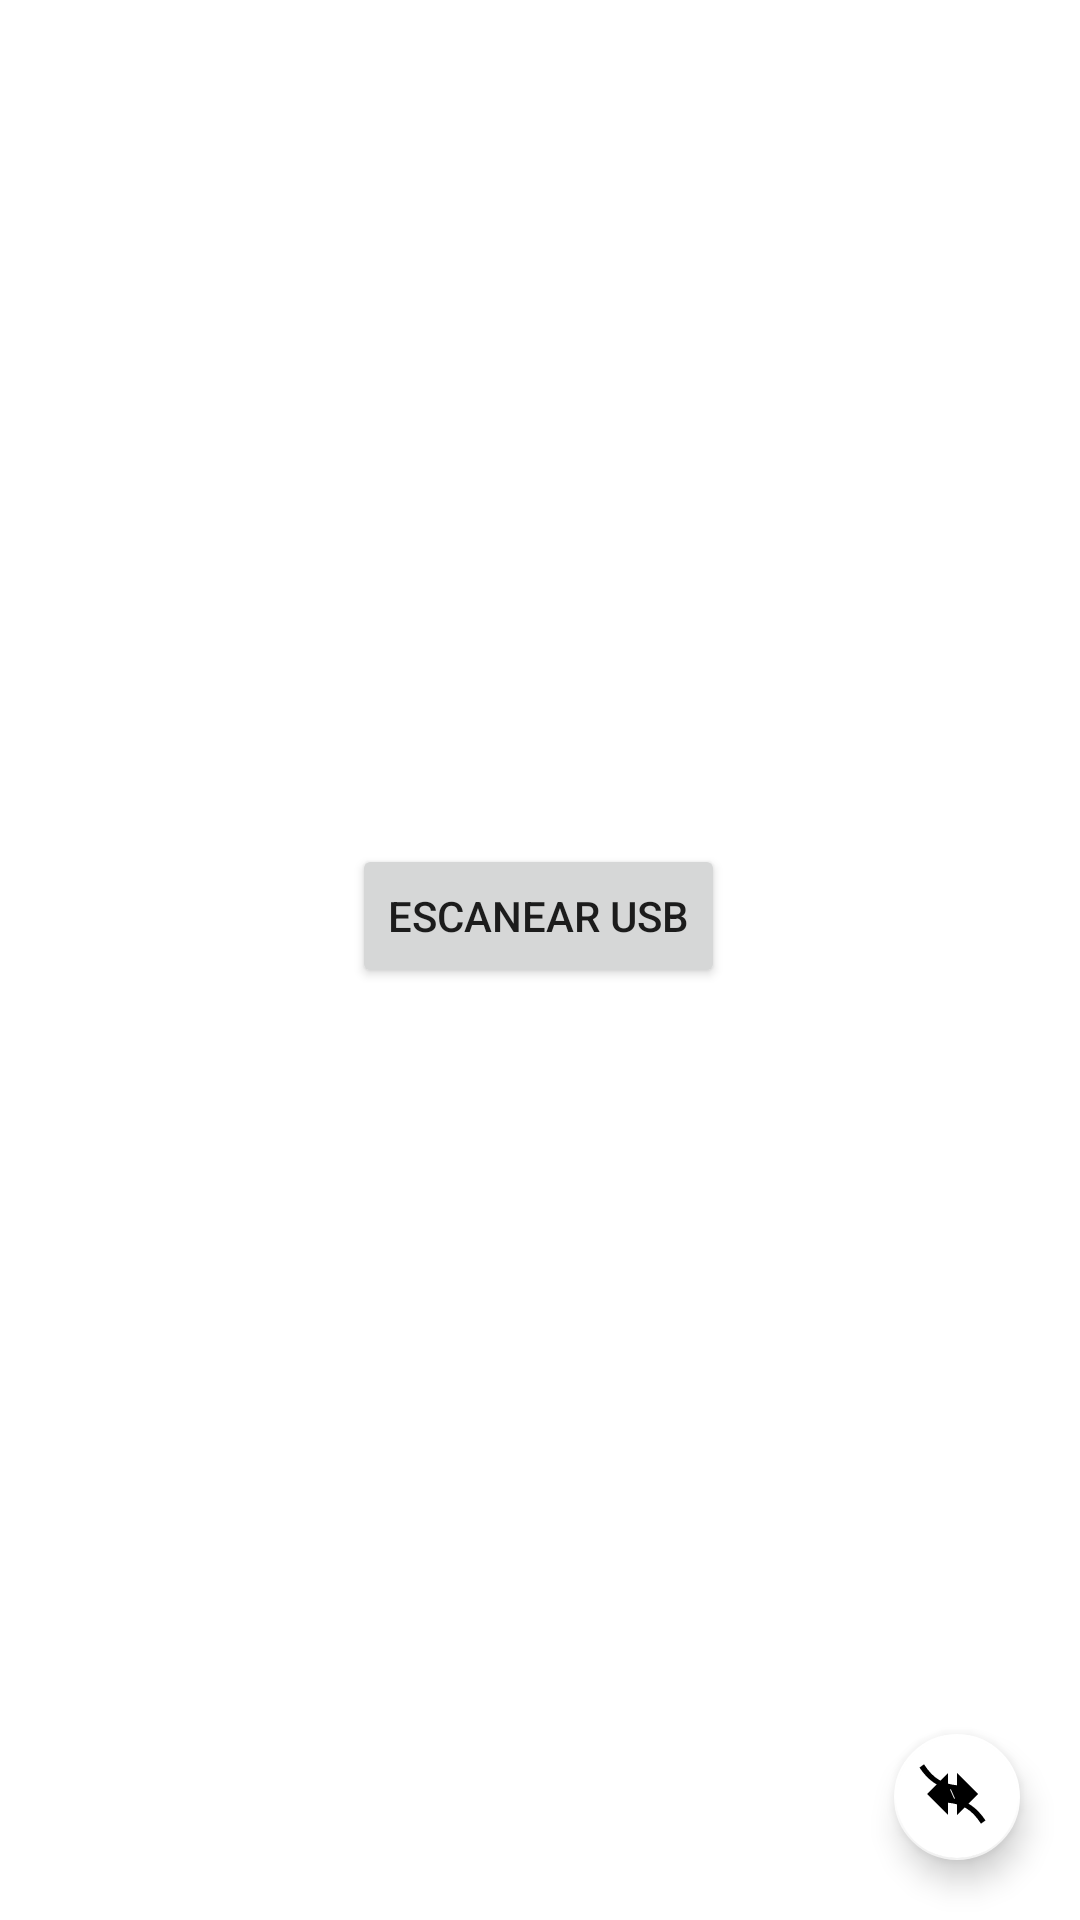

Point at icon controls on the screen. Image size 1080 × 1920, points as point (x, y).
usb: point (961, 1818)
